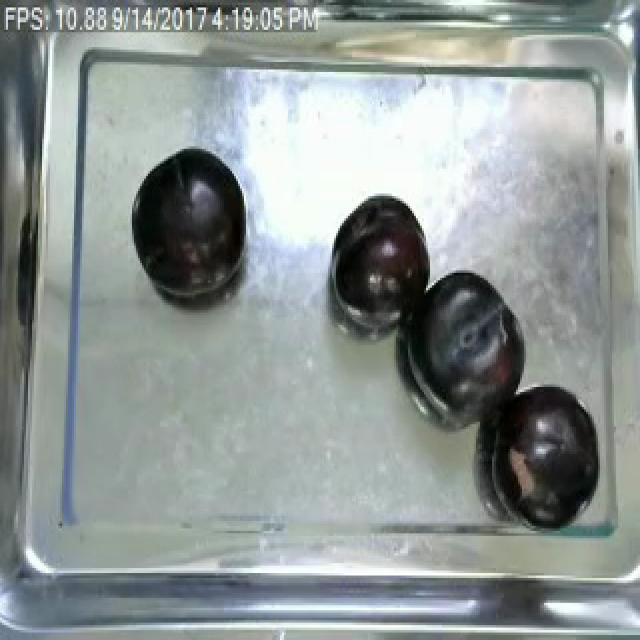Fruit: (126, 139, 252, 300), (402, 265, 530, 417), (490, 377, 602, 528), (330, 194, 432, 312)
